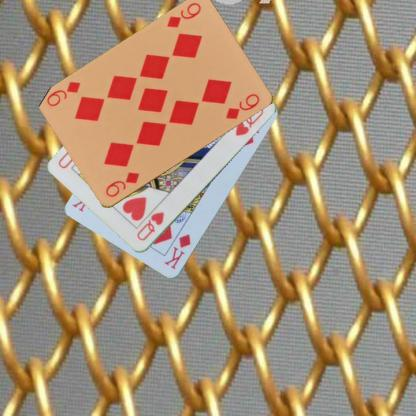9d: (164, 0, 203, 30), (103, 170, 141, 199)
Kd: (162, 232, 192, 271)
Qh: (134, 209, 166, 242)
